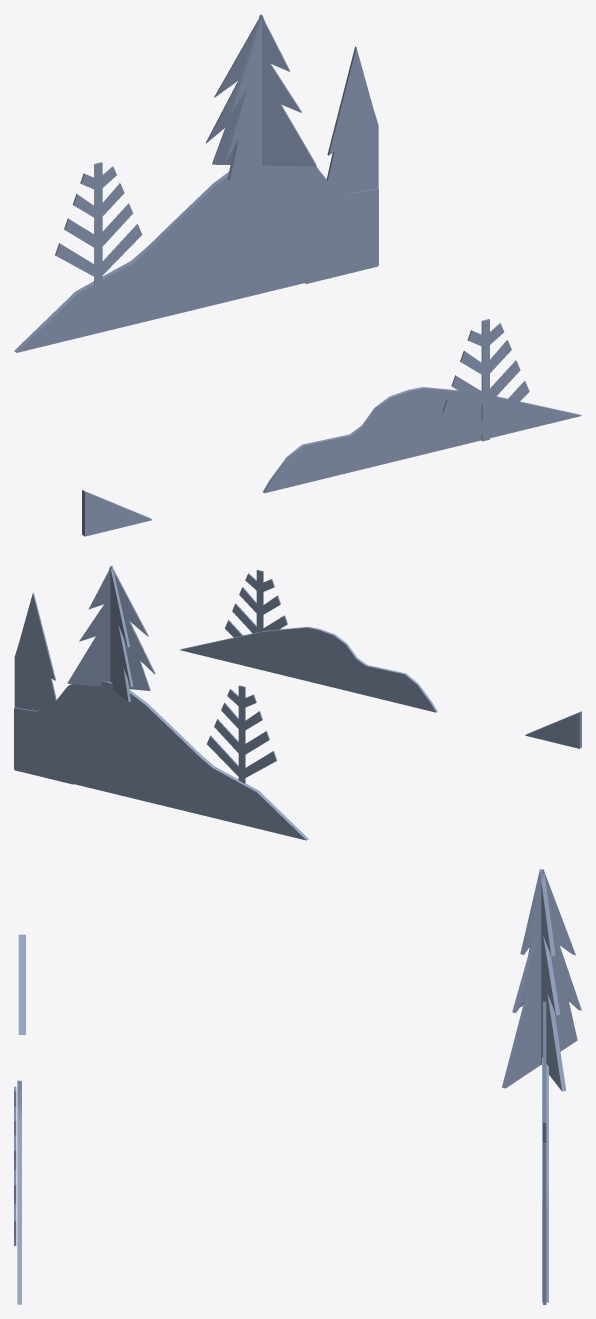
The model's file is frame_0227.glb.
3 views of the same model, one above another, from view 1: azimuth 30°, elevation 25°; view 2: azimuth 150°, elevation 25°; view 3: azimuth 270°, elevation 25° (orthographic). The views are drawn at different scales.
Visible parts, largest first — view 1: export_trees_001.002; view 2: export_trees_001.002; view 3: export_trees_001.002.
Part boxes in pixels (x1,y1,x2,y2): export_trees_001.002: (14, 14, 581, 536); export_trees_001.002: (14, 565, 581, 840); export_trees_001.002: (14, 869, 581, 1304).
Bounding box in the file's own units: 0.4327 × 0.2333 × 0.3323.
